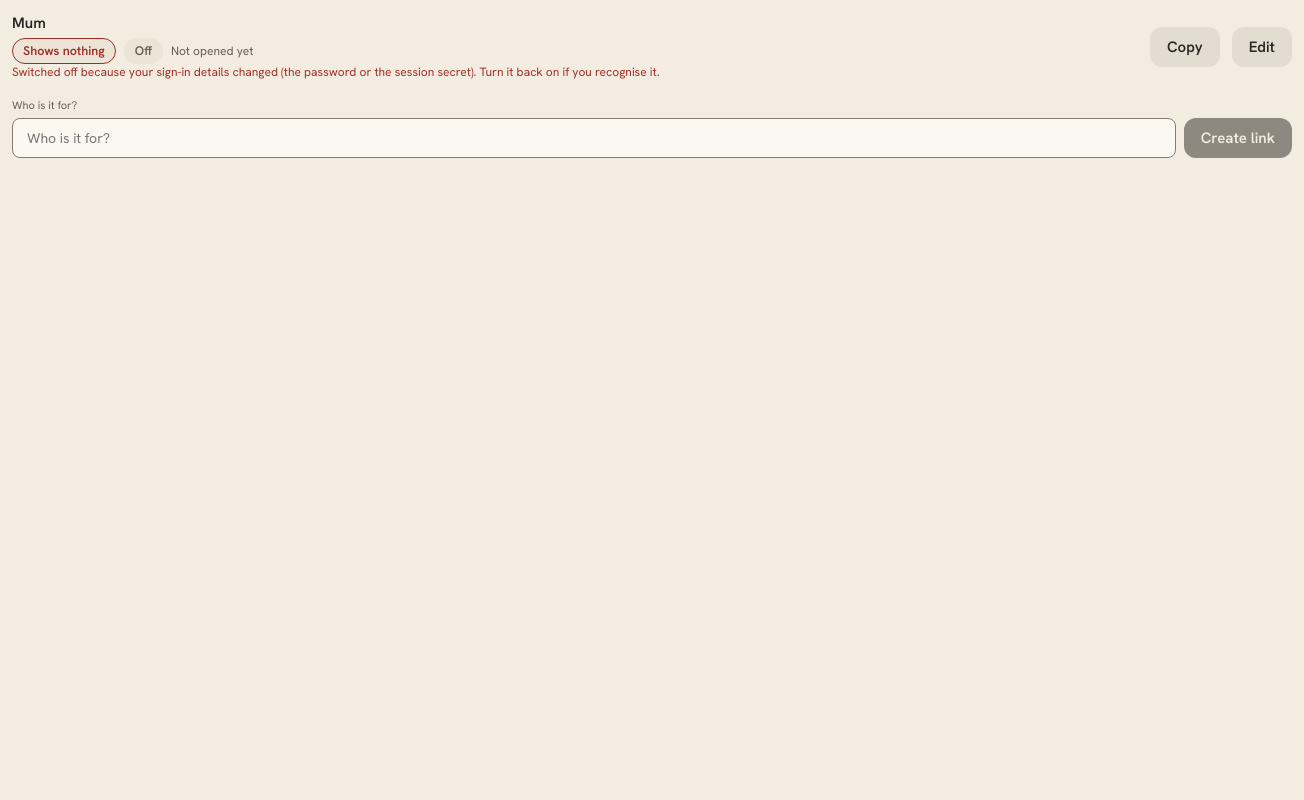
Test: Shares under Field notes › keeps the link privacy note, the rotate note and the status warnings
Click the button "Edit" at point(1262, 46), box [1232,26,1292,66]
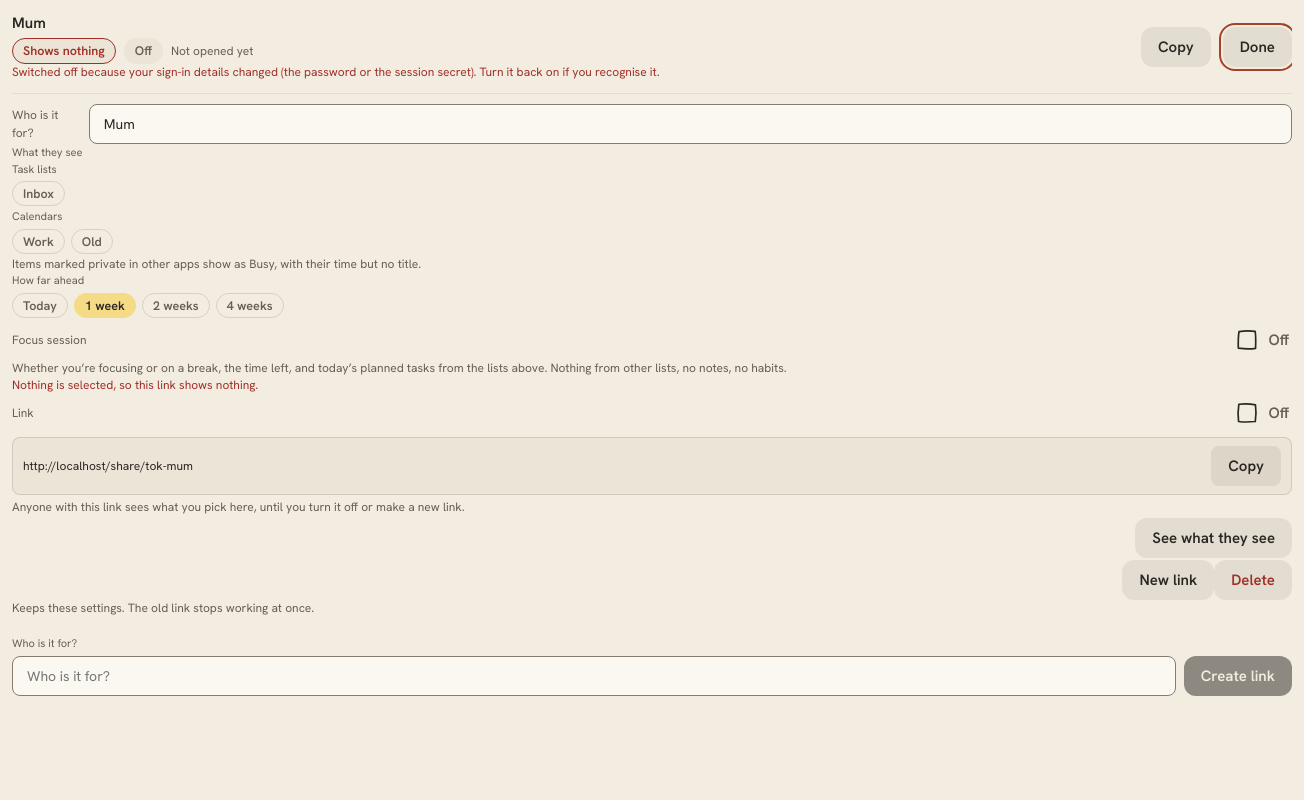
Now the text "Anyone with this link sees what you pick here" is shown, box [12,499,465,515]
Now the text "Keeps these settings. The old link stops working at once." is shown, box [12,600,314,616]
